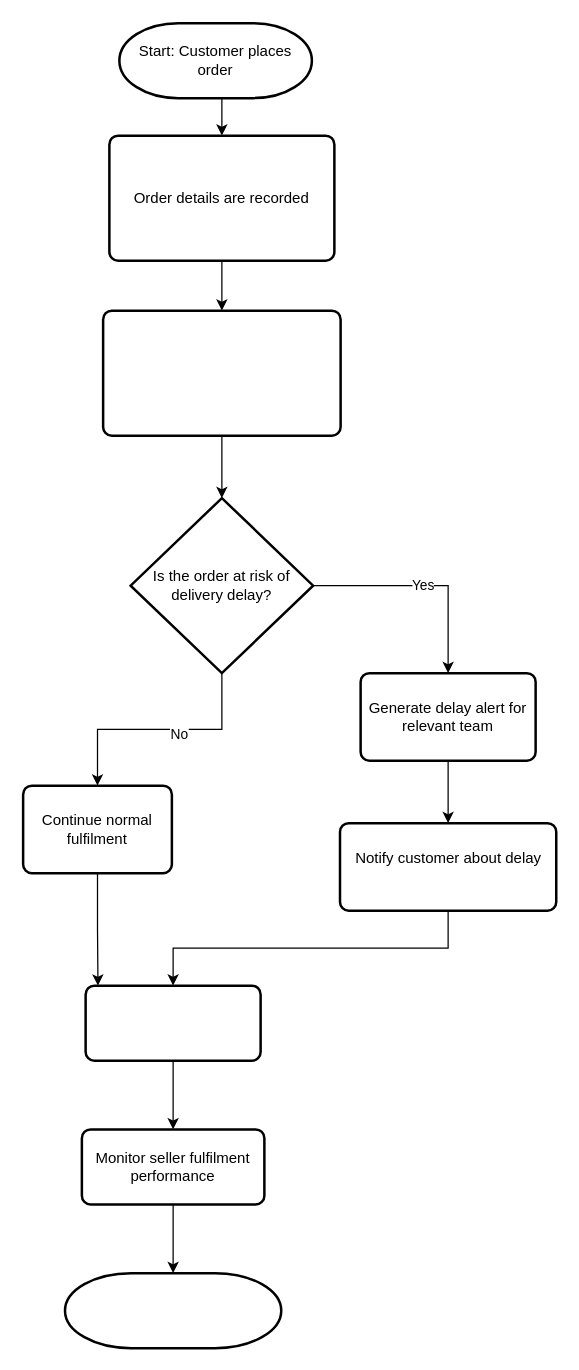
Image size: 579x1370. Some labels were removed from this diagram. Here are the shapes that lost their labels. From the top down, the centre of each, then its label:
At point (221, 372): "Order status and fulfilment progress are updated".
At point (172, 1022): "Update order status".
At point (172, 1310): "Order delivered and status confirmed".
